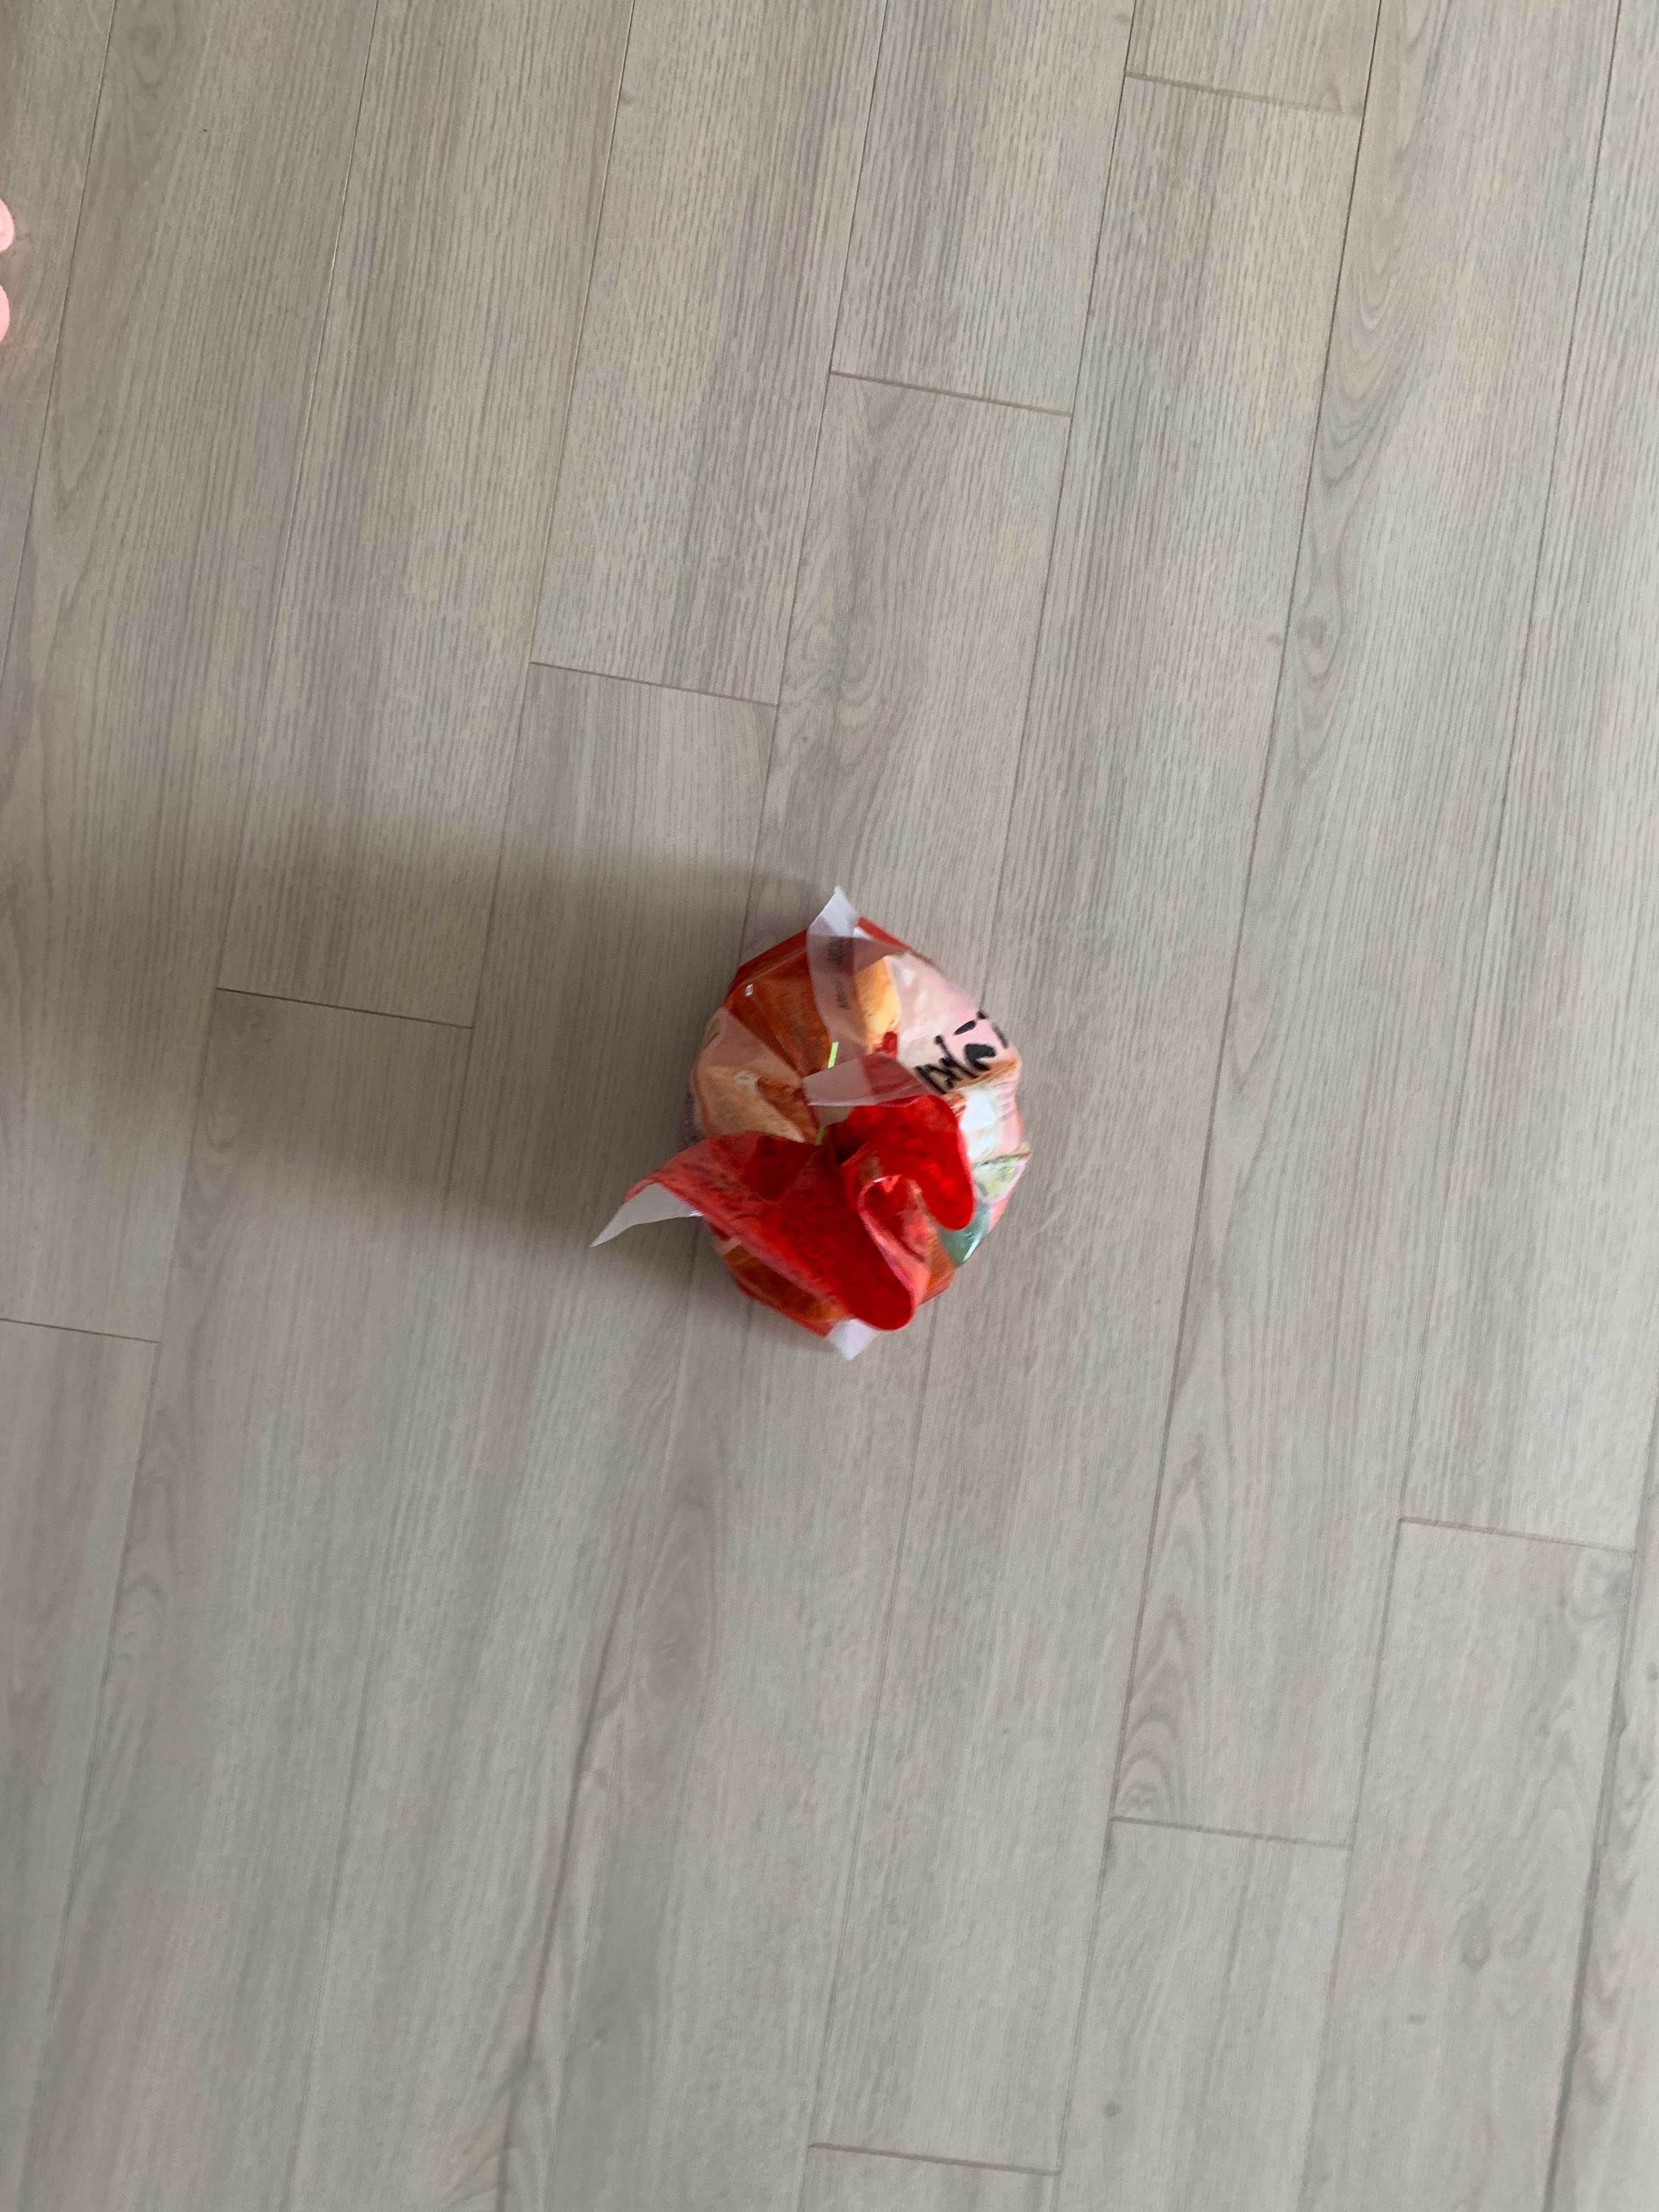kimchi: (678, 914, 1032, 1336)
